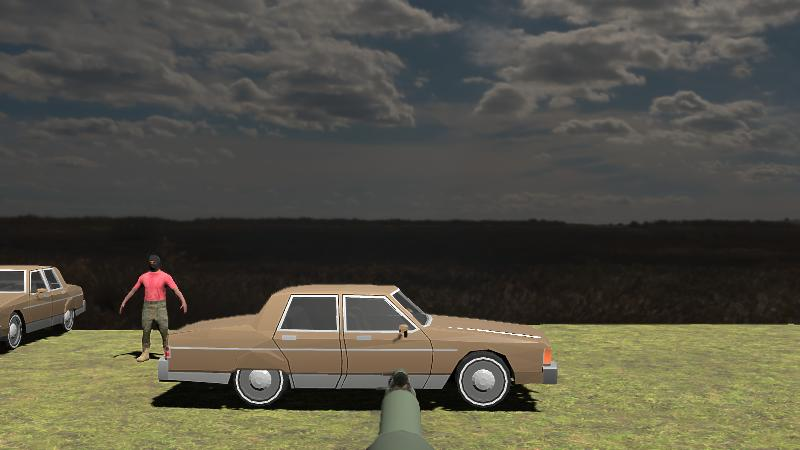Human: (120, 253, 186, 363)
car: (158, 284, 555, 413), (0, 264, 86, 358)
